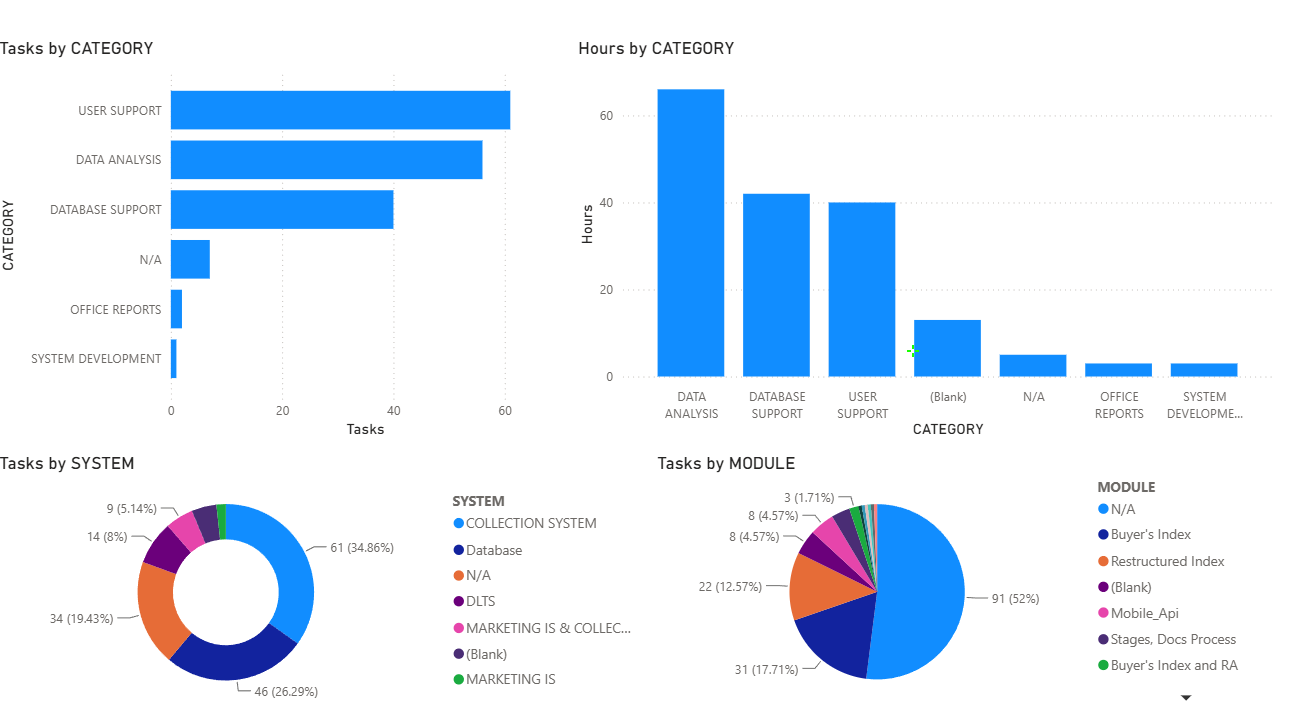

Layout of this report page (visuals, bound fields, positions):
{"tool":"powerbi","page":{"name":"Working Analysis","canvas":[1280,720],"ordinal":1},"visuals":[{"type":"clusteredBarChart","fields":{"Category":["ITDAR.CATEGORY"],"Y":["CountNonNull(ITDAR.CATEGORY)"]},"box":[0,65.5,562.9,393.3],"z":0},{"type":"columnChart","fields":{"Category":["ITDAR.CATEGORY"],"Y":["Calendar.Total Hours"]},"box":[562.9,65.5,686.3,393.3],"z":1000},{"type":"donutChart","fields":{"Category":["ITDAR.SYSTEM"],"Y":["Calendar.Total Tasks"]},"box":[0,468.7,640,252],"z":2000},{"type":"pieChart","fields":{"Category":["ITDAR.MODULE"],"Y":["Calendar.Total Tasks"]},"box":[640,469,609,251],"z":3000}]}

Visuals, with their boxes in screenshot pixels (x1, y1, x2, y2), scaled from the page's 1280x720 canvas onto the 1290x706 screenshot:
clusteredBarChart - ITDAR.CATEGORY x CountNonNull(ITDAR.CATEGORY): region(0, 64, 567, 450)
columnChart - ITDAR.CATEGORY x Calendar.Total Hours: region(567, 64, 1259, 450)
donutChart - ITDAR.SYSTEM x Calendar.Total Tasks: region(0, 460, 645, 705)
pieChart - ITDAR.MODULE x Calendar.Total Tasks: region(645, 460, 1259, 705)
